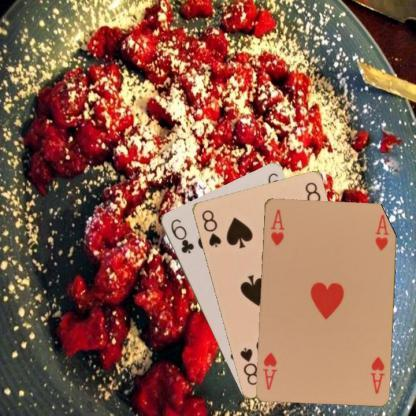6c: (168, 217, 196, 254)
8s: (199, 206, 222, 249)
Ah: (367, 353, 386, 396), (267, 206, 286, 247)
